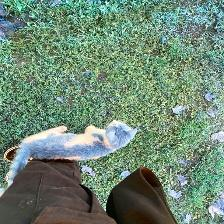kedo: (5, 119, 138, 186)
